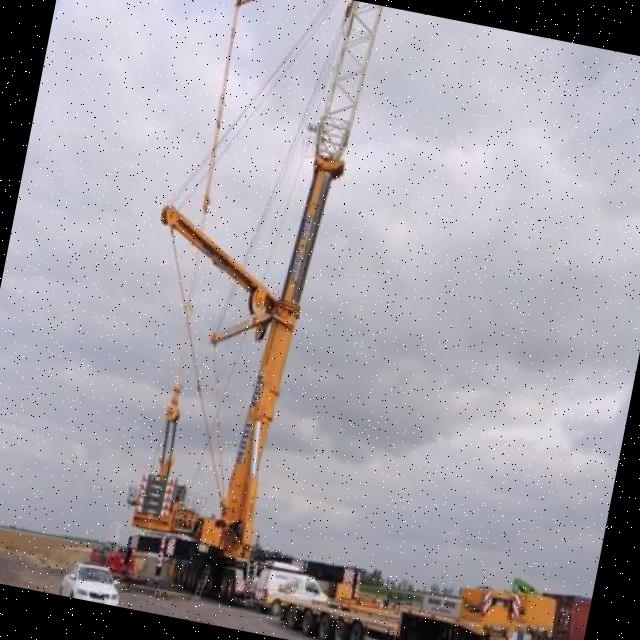Mobile Crane: (87, 0, 388, 608)
